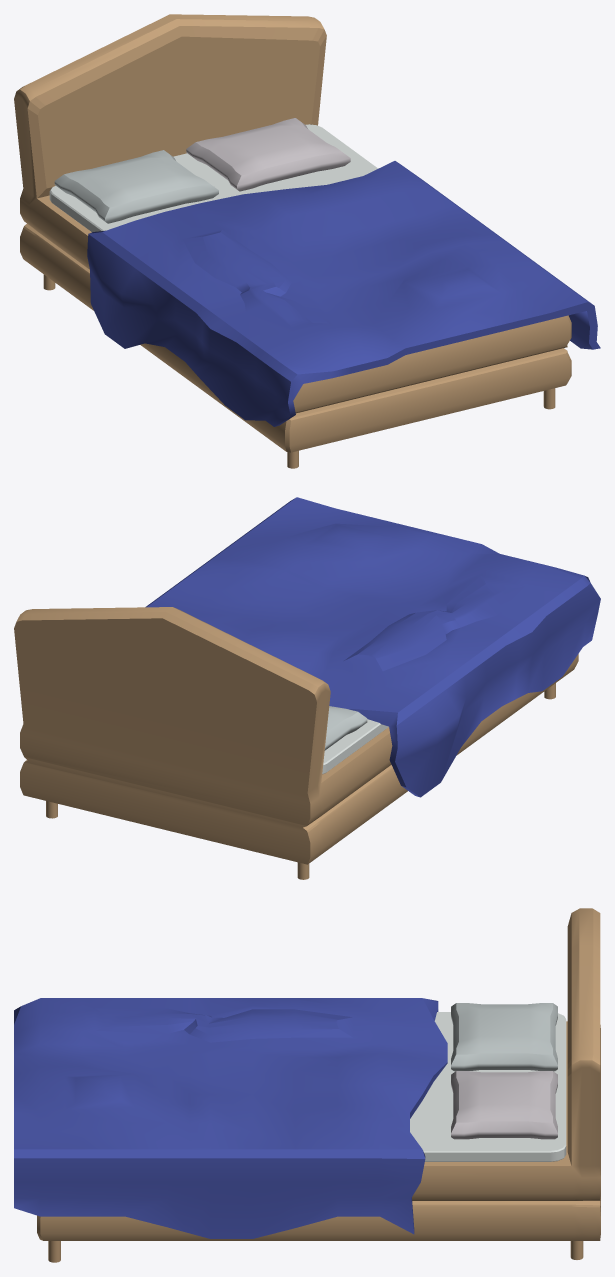
Rendered from bed_nieuwestijl.fbx.
3 views of the same model, one above another, from view 1: azimuth 30°, elevation 25°; view 2: azimuth 150°, elevation 25°; view 3: azimuth 270°, elevation 25° (orthographic). The views are drawn at different scales.
Parts seen in each view (by area): view 1: polySurface55; view 2: polySurface55; view 3: polySurface55.
Boxes of the visible parts, box(x1,y1,x2,y2) form: polySurface55: box(14, 14, 600, 468); polySurface55: box(14, 497, 600, 879); polySurface55: box(14, 908, 600, 1262).
Bounding box in the file's own units: 3.27 × 2.26 × 4.81.
